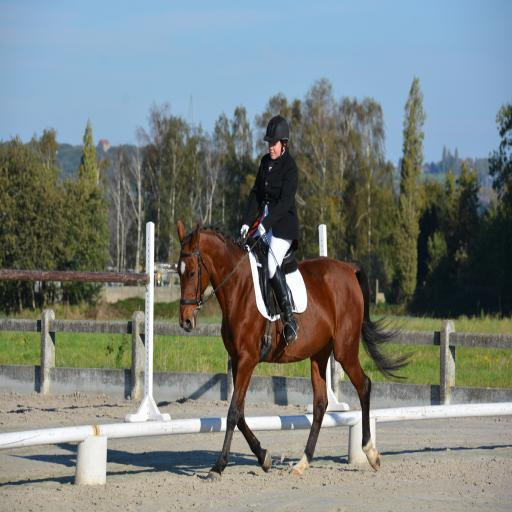horse: (176, 217, 419, 474)
